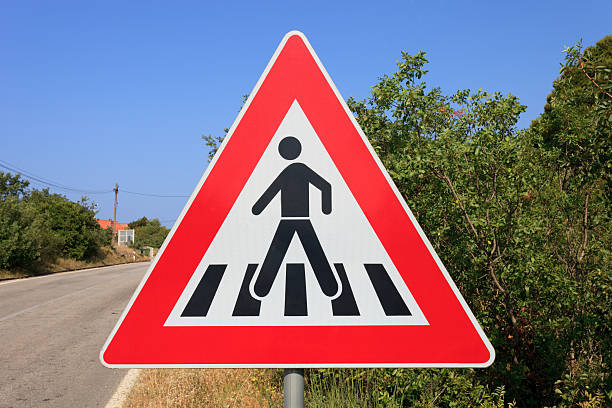pedestrian: (155, 99, 443, 350)
